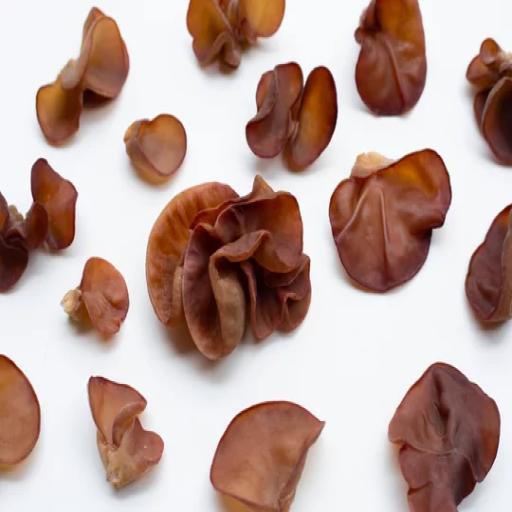Wood Ear Mushroom: (145, 174, 313, 369), (329, 144, 455, 293), (388, 352, 499, 512), (202, 389, 325, 512), (35, 8, 135, 157), (72, 366, 170, 501), (0, 152, 78, 297), (242, 60, 333, 168), (354, 0, 428, 120), (186, 0, 288, 74), (55, 258, 136, 349), (463, 28, 512, 170), (0, 347, 44, 487), (465, 204, 512, 332), (123, 111, 194, 183)
